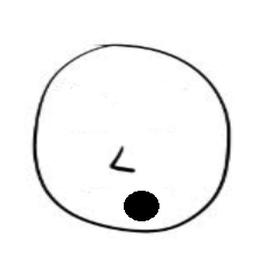open_mouth: (123, 186, 160, 224)
pointy_nose: (103, 141, 139, 178)
